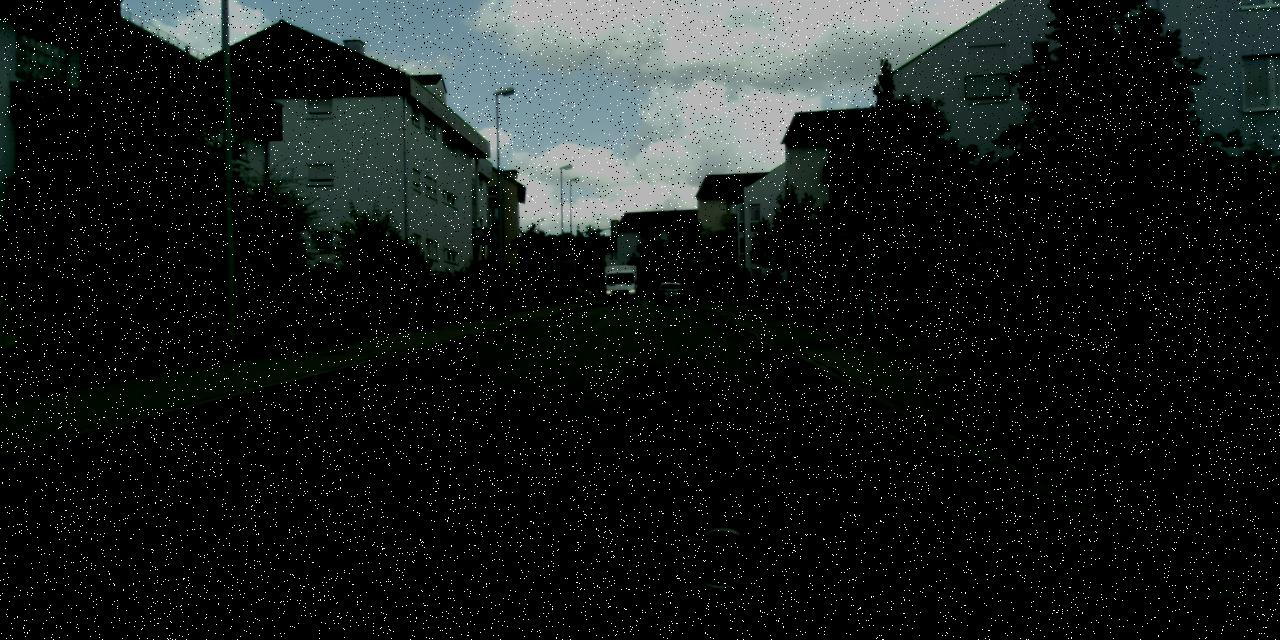ped: (853, 238, 898, 346), (577, 287, 592, 299)
